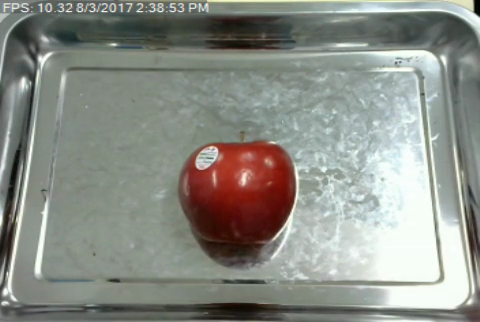Apple: (173, 135, 301, 250)
